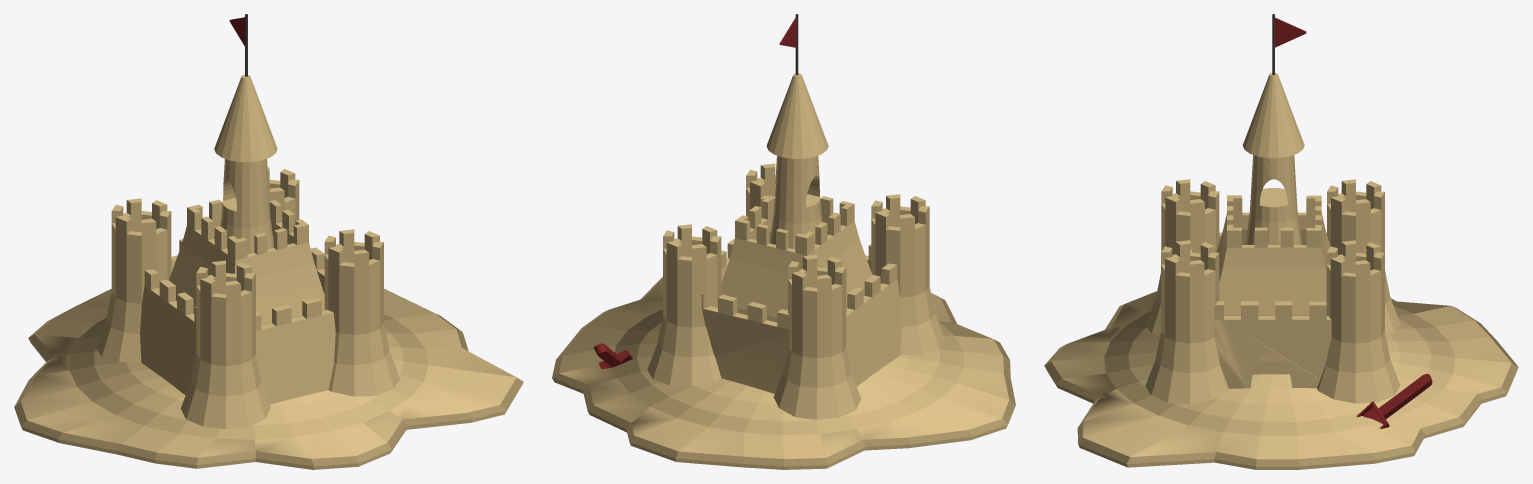
Rendered from Castillo.gltf.
3 views of the same model, side by side, from view 1: azimuth 30°, elevation 25°; view 2: azimuth 150°, elevation 25°; view 3: azimuth 270°, elevation 25° (orthographic). The views are drawn at different scales.
Visible parts, largest first — view 1: Object_4; view 2: Object_4, Object_5; view 3: Object_4, Object_5.
Boxes of the visible parts, x1,y1,x2,y2 form: Object_4: (14,74,523,469); Object_4: (552,73,1015,469); Object_5: (594,18,796,369); Object_4: (1044,73,1518,469); Object_5: (1274,17,1432,428).
Size of the model in its own units: 208 by 173 by 205.
